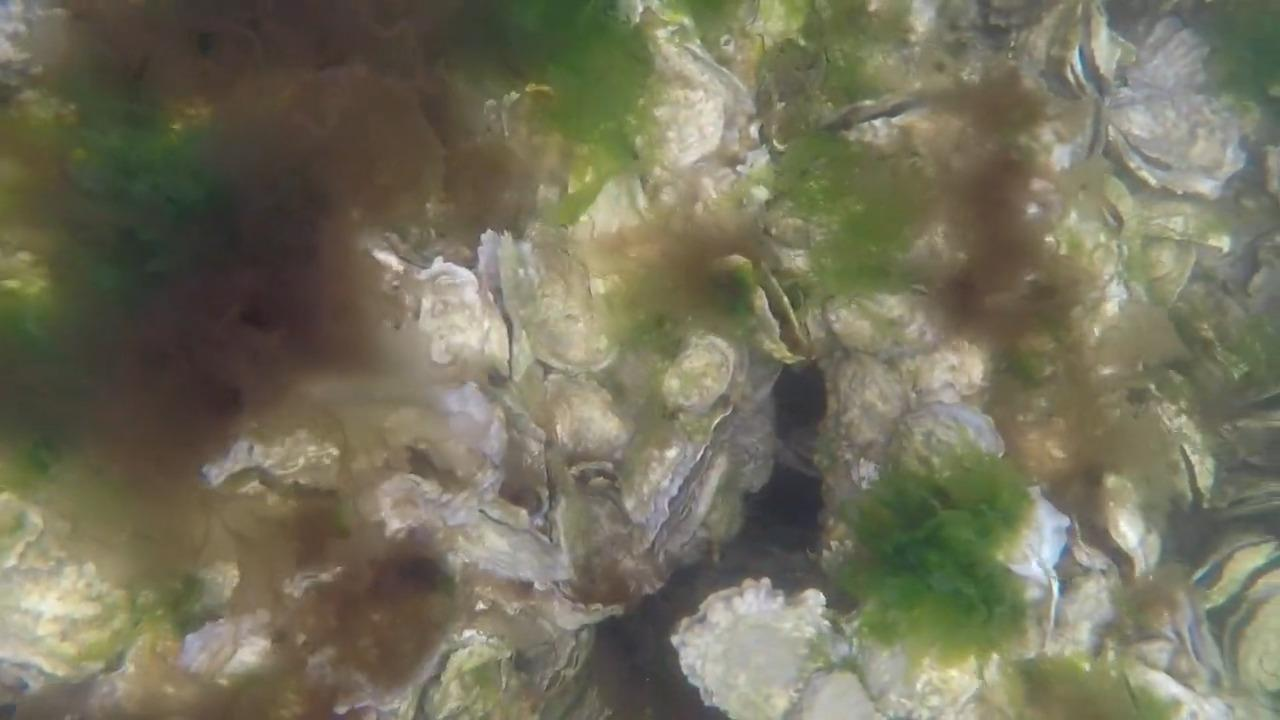Oyster: (668, 573, 845, 718), (0, 537, 149, 685), (372, 241, 510, 391), (629, 20, 751, 184), (497, 228, 616, 376), (370, 391, 497, 495), (1070, 296, 1198, 394), (199, 420, 351, 501), (827, 346, 925, 470), (859, 633, 998, 719), (448, 505, 579, 596), (1109, 114, 1239, 201), (1121, 191, 1249, 277), (709, 362, 785, 504), (888, 398, 1008, 485), (1126, 582, 1223, 689), (1000, 485, 1078, 612), (817, 285, 943, 363), (653, 440, 734, 557), (539, 378, 632, 472), (416, 638, 525, 718), (174, 607, 278, 688), (1040, 566, 1121, 658), (657, 331, 740, 417), (1194, 536, 1280, 615), (499, 352, 558, 464), (1028, 86, 1103, 174), (1116, 653, 1217, 717), (742, 271, 808, 368), (1098, 472, 1160, 575), (1228, 588, 1280, 696), (661, 336, 735, 411), (1038, 5, 1096, 100), (788, 666, 883, 720), (1136, 231, 1204, 301), (1082, 7, 1137, 91), (1101, 487, 1151, 570), (736, 0, 815, 52), (0, 241, 57, 313), (970, 660, 1031, 720), (0, 494, 48, 567), (1120, 637, 1187, 686), (1063, 520, 1116, 580), (1242, 230, 1280, 307), (759, 213, 816, 253), (284, 565, 345, 599), (848, 455, 881, 493), (610, 0, 650, 28), (1267, 142, 1280, 200)
